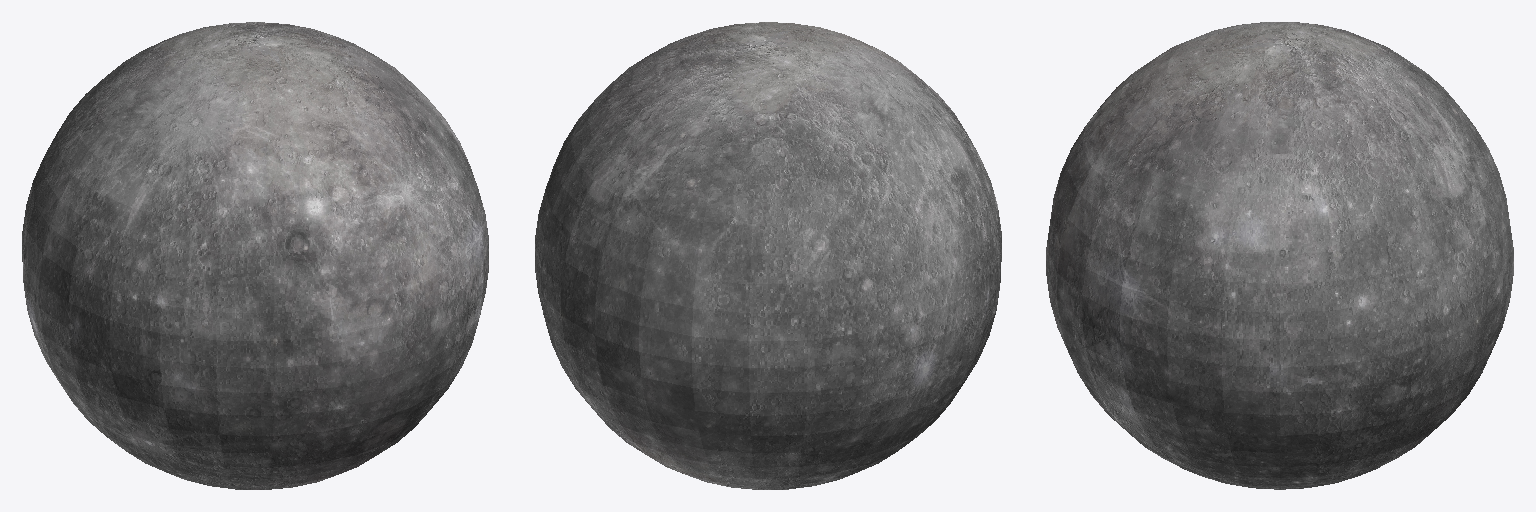
3 views of the same model, side by side, from view 1: azimuth 30°, elevation 25°; view 2: azimuth 150°, elevation 25°; view 3: azimuth 270°, elevation 25° (orthographic).
Parts seen in each view (by area): view 1: mercury; view 2: mercury; view 3: mercury.
Boxes of the visible parts, <box> form: mercury: <box>22,22,488,489</box>; mercury: <box>535,22,1001,489</box>; mercury: <box>1046,22,1513,489</box>.
Size of the model in its own units: 38.71 by 38.94 by 38.78.
1 materials, 1 textured.